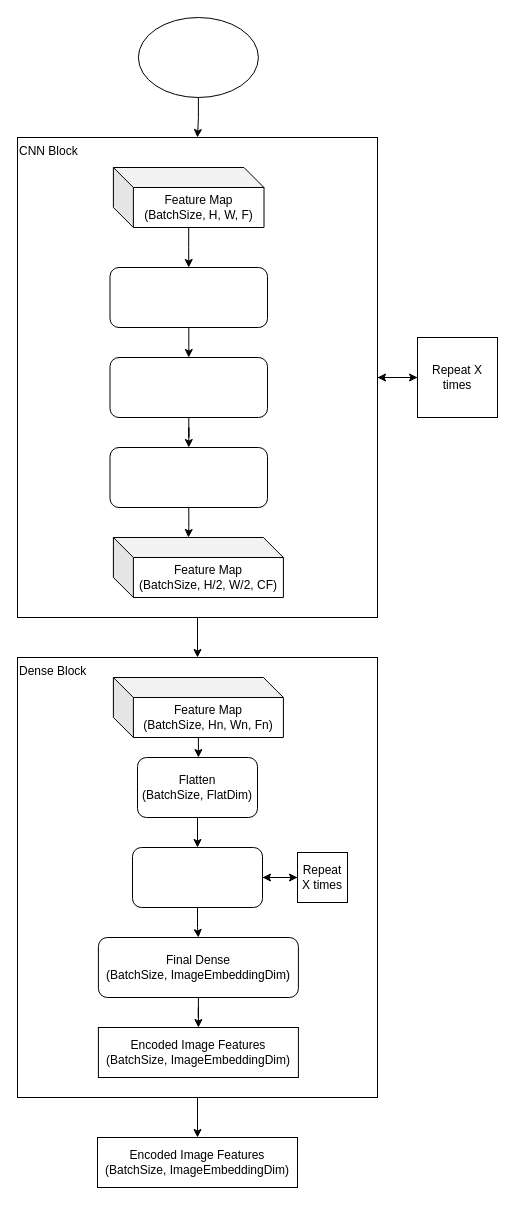
This 515x1205 diagram has some shape labels left out. The centre of each missing label's shape, as x and y in pixels:
"Conv (padded to same size) (BatchSize, H, W, CF)" goes at point 188,297.
"Dense (BatchSize, DenseDim)" goes at point 197,877.
"Dropout (BatchSize, H/2, W/2, CF)" goes at point 188,477.
"Image Batch (BatchSize, Height, Width, 1)" goes at point 197,57.
"Maxpoool (stride 2) (BatchSize, H/2, W/2, CF)" goes at point 188,387.
